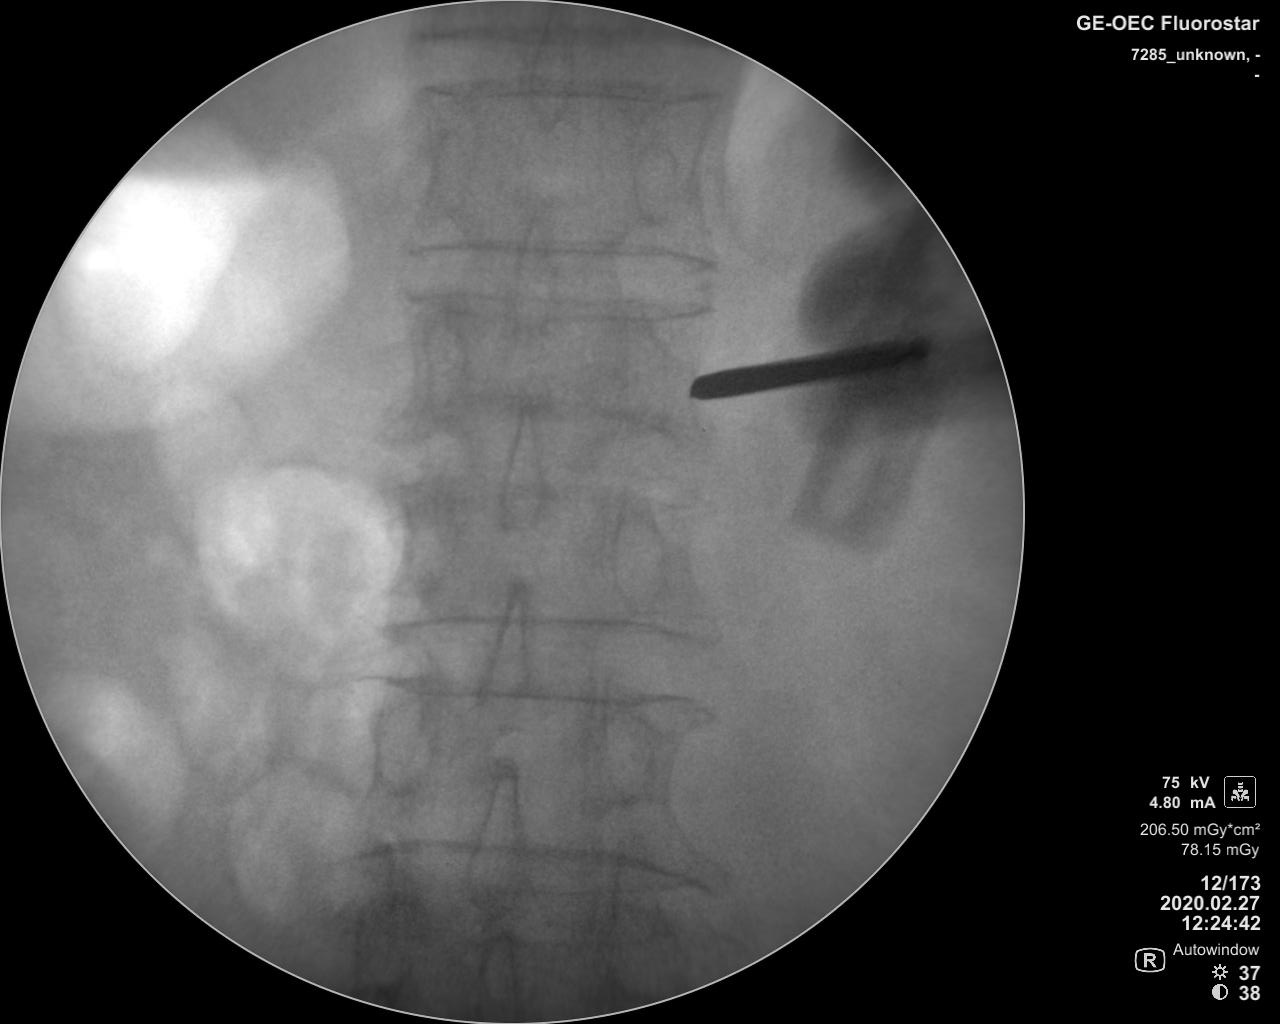eyes: (585, 700, 658, 815), (366, 679, 435, 800), (616, 307, 680, 432), (607, 501, 670, 619), (385, 497, 458, 598), (607, 907, 686, 997), (400, 316, 470, 416), (628, 136, 686, 231)
line: (338, 832, 695, 897), (368, 670, 708, 712), (370, 608, 708, 650), (393, 288, 720, 330), (403, 233, 715, 272), (418, 80, 724, 113), (408, 18, 688, 48)
nose: (465, 773, 529, 913), (476, 578, 535, 726), (498, 385, 548, 543), (508, 211, 560, 339), (529, 3, 576, 143), (467, 931, 526, 1022)
